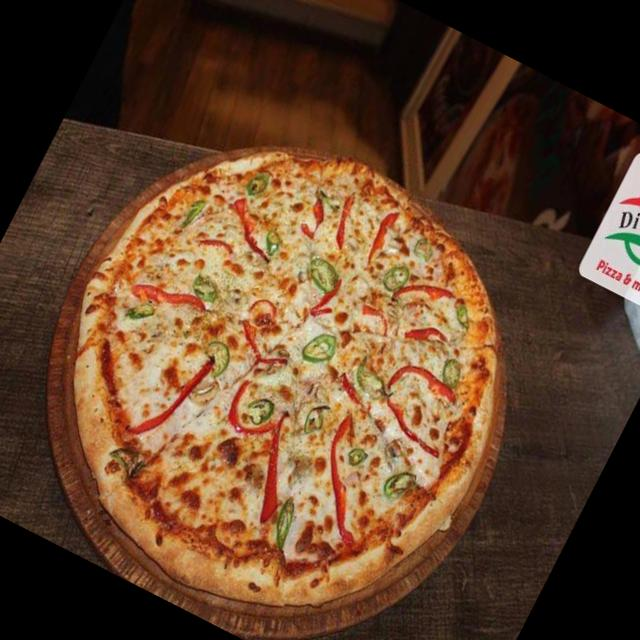peppers: (296, 412, 402, 542), (363, 354, 478, 469), (124, 336, 220, 456), (232, 404, 322, 526), (209, 190, 291, 270), (218, 372, 288, 444), (132, 268, 212, 329), (230, 315, 303, 378), (393, 261, 458, 319), (324, 182, 372, 250), (398, 312, 456, 362), (363, 204, 408, 266), (298, 186, 339, 237)
pizza: (75, 152, 498, 608)
